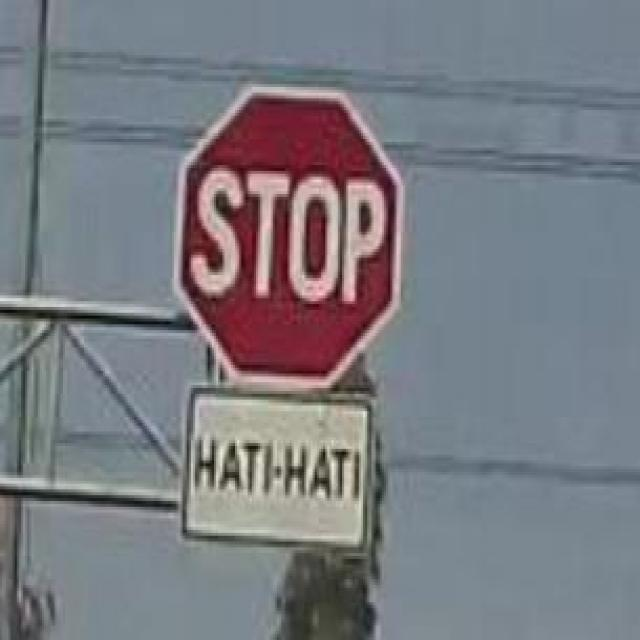traffic sign: (176, 84, 402, 388)
